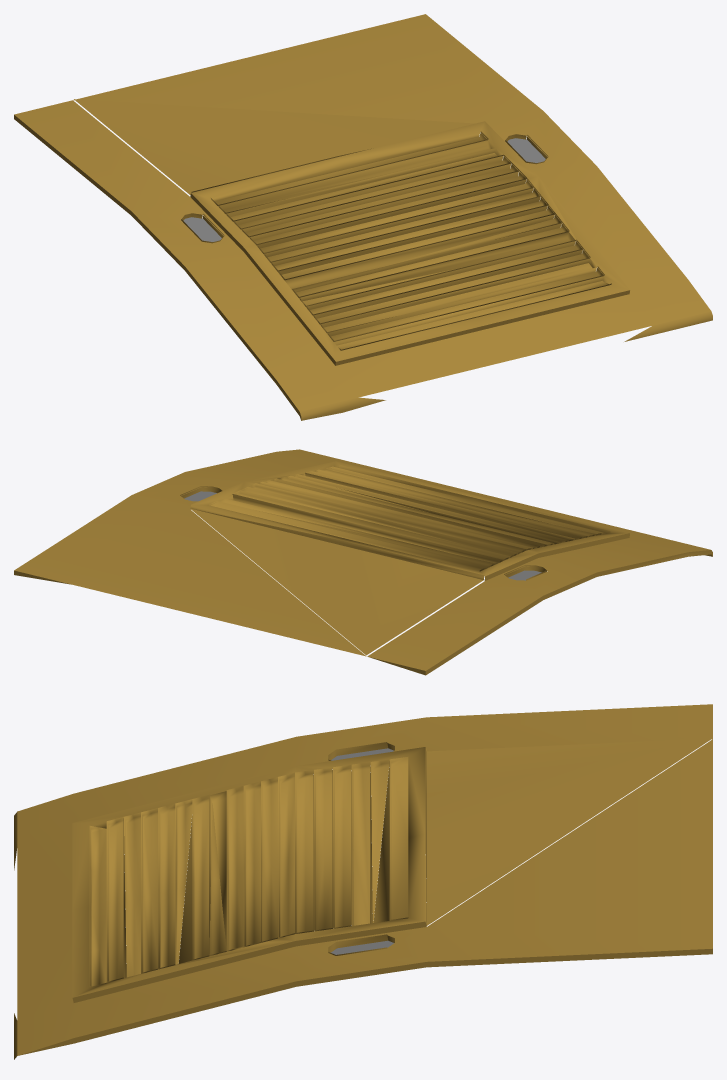
File: Cofre.obj
The picture shows the model from 3 angles, top to bottom: view 1: azimuth 30°, elevation 25°; view 2: azimuth 150°, elevation 25°; view 3: azimuth 270°, elevation 25°; orthographic projection. The views are drawn at different scales.
Visible parts, largest first — view 1: Cofre_tan.003, Cofre_flgrey.007; view 2: Cofre_tan.003, Cofre_flgrey.007; view 3: Cofre_tan.003, Cofre_flgrey.007.
Boxes of the visible parts, x1,y1,x2,y2 form: Cofre_tan.003: (14,14,712,420); Cofre_flgrey.007: (183,138,545,241); Cofre_tan.003: (14,449,712,675); Cofre_flgrey.007: (184,491,541,580); Cofre_tan.003: (14,704,712,1059); Cofre_flgrey.007: (331,748,393,954).
Bounding box in the file's own units: 26.43 × 6.08 × 31.92.
